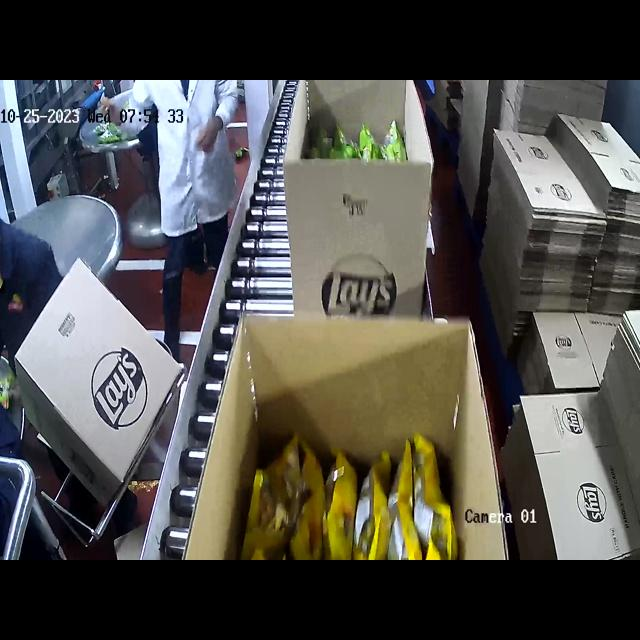salted: (240, 431, 458, 558)
yogurt: (300, 116, 412, 164)
